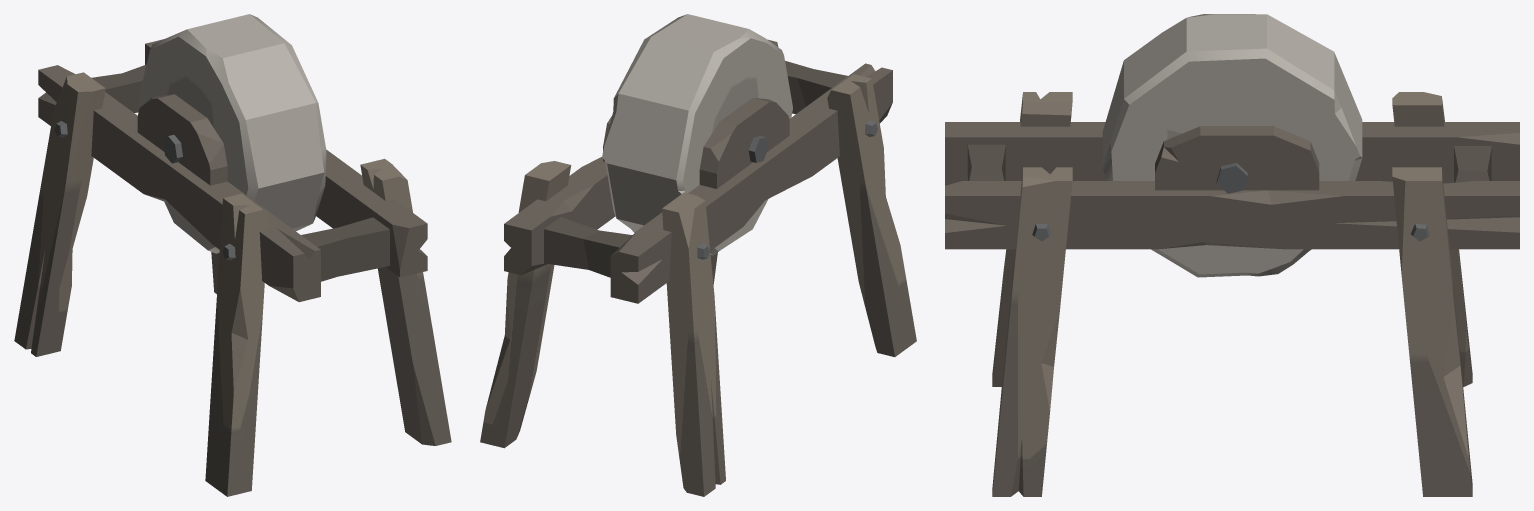
Rendered from ancient_SM_Prop_Grinding_Wheel_01.gltf.
3 views of the same model, side by side, from view 1: azimuth 30°, elevation 25°; view 2: azimuth 150°, elevation 25°; view 3: azimuth 270°, elevation 25° (orthographic). The views are drawn at different scales.
Visible parts, largest first — view 1: SM_Prop_Grinding_Wheel_01; view 2: SM_Prop_Grinding_Wheel_01; view 3: SM_Prop_Grinding_Wheel_01.
Boxes of the visible parts, box(x1,y1,x2,y2) form: SM_Prop_Grinding_Wheel_01: box(14, 14, 451, 496); SM_Prop_Grinding_Wheel_01: box(480, 14, 916, 496); SM_Prop_Grinding_Wheel_01: box(945, 14, 1519, 496).
Bounding box in the file's own units: 0.7858 × 1.2 × 1.55.
Materials: 1 (1 with a texture image).
